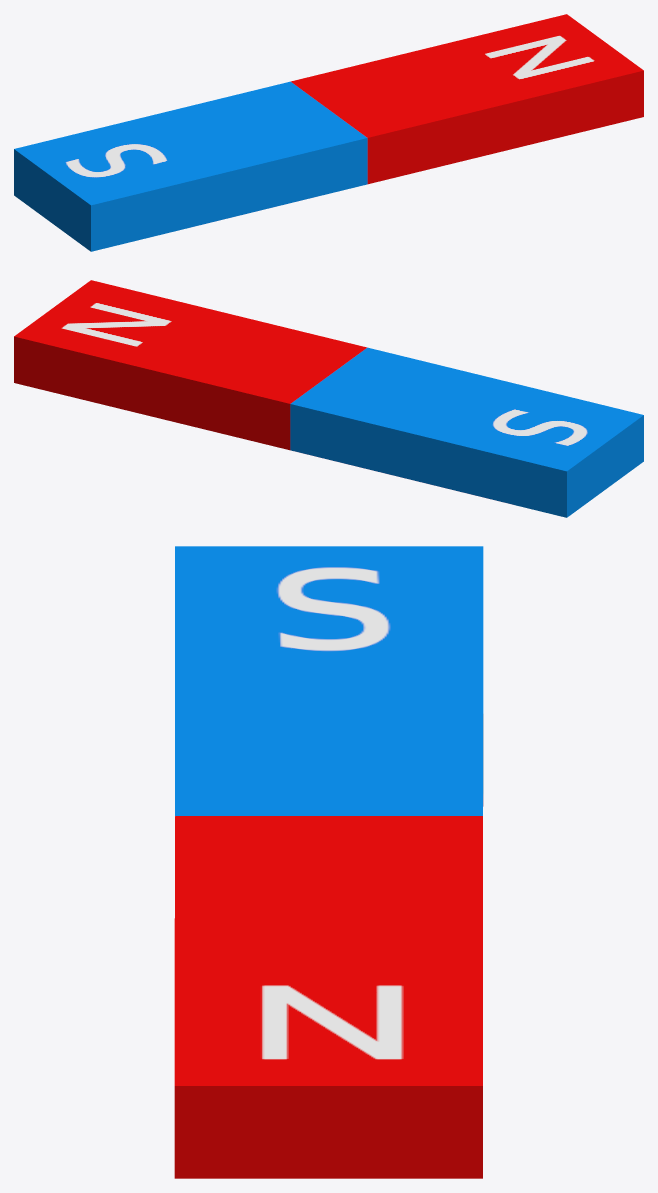
Rendered from magnete.fbx.
3 renders of one model, top to bottom at view 1: azimuth 30°, elevation 25°; view 2: azimuth 150°, elevation 25°; view 3: azimuth 270°, elevation 25°, orthographic. The views are drawn at different scales.
Parts seen in each view (by area): view 1: magnete; view 2: magnete; view 3: magnete.
Part boxes in pixels (left/top/right/bottom): magnete: left=14, top=14, right=643, bottom=251; magnete: left=14, top=280, right=643, bottom=517; magnete: left=174, top=546, right=483, bottom=1178.
Size of the model in its own units: 10.08 by 0.8087 by 2.43.
